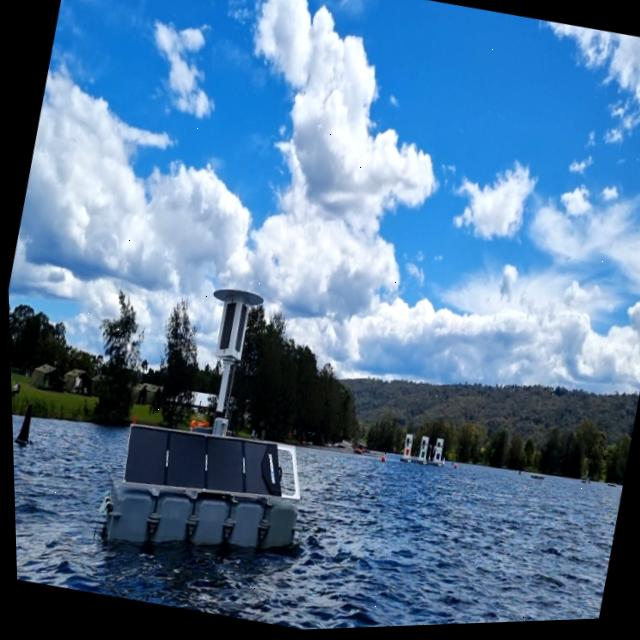led: (213, 300, 239, 355), (227, 301, 248, 358)
